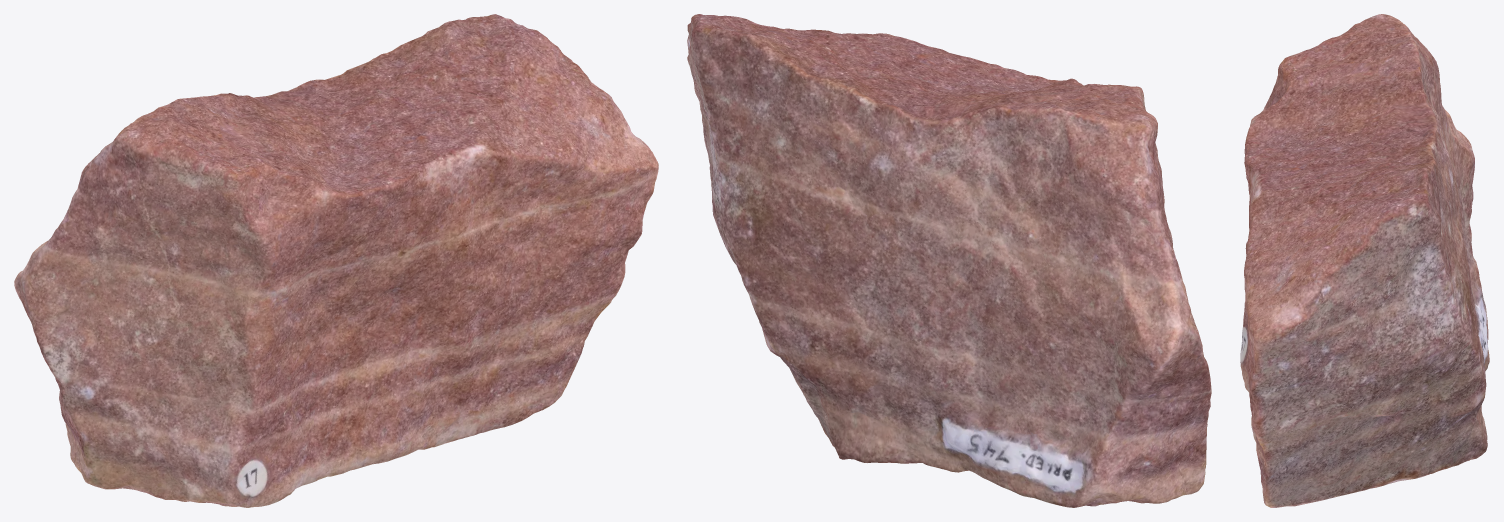
The model's file is quartz_sandstone.glb.
The picture shows the model from 3 angles, left to right: view 1: azimuth 30°, elevation 25°; view 2: azimuth 150°, elevation 25°; view 3: azimuth 270°, elevation 25°; orthographic projection. The views are drawn at different scales.
Parts seen in each view (by area): view 1: Object_2; view 2: Object_2; view 3: Object_2.
Boxes of the visible parts, x1,y1,x2,y2 form: Object_2: [14, 14, 658, 507]; Object_2: [687, 14, 1211, 507]; Object_2: [1240, 14, 1489, 507].
Bounding box in the file's own units: 1.88 × 1.16 × 0.7512.
1 material, 1 textured.
